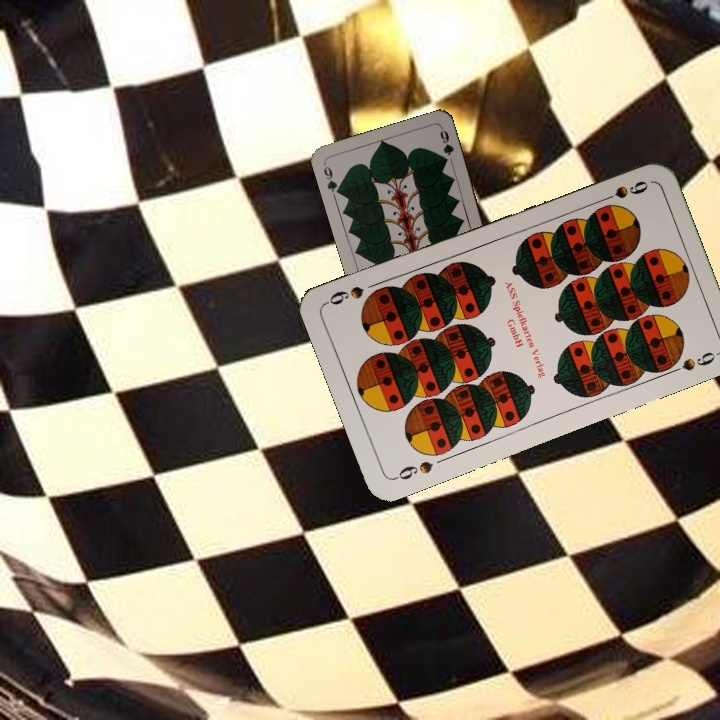G9: (320, 160, 344, 197)
S9: (594, 176, 652, 206), (390, 457, 436, 483)
